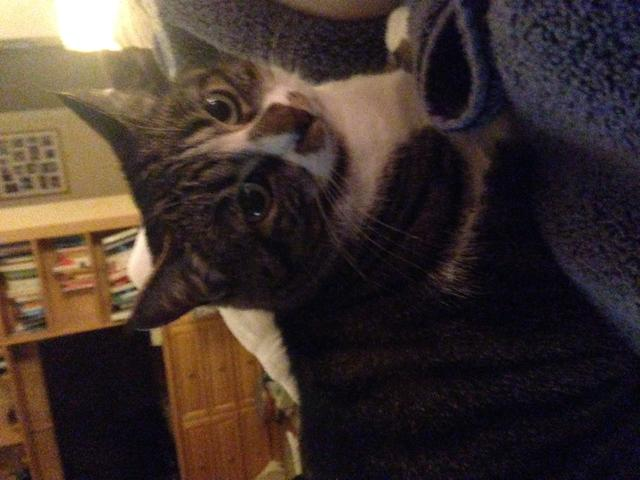playdoh: (54, 53, 526, 340)
